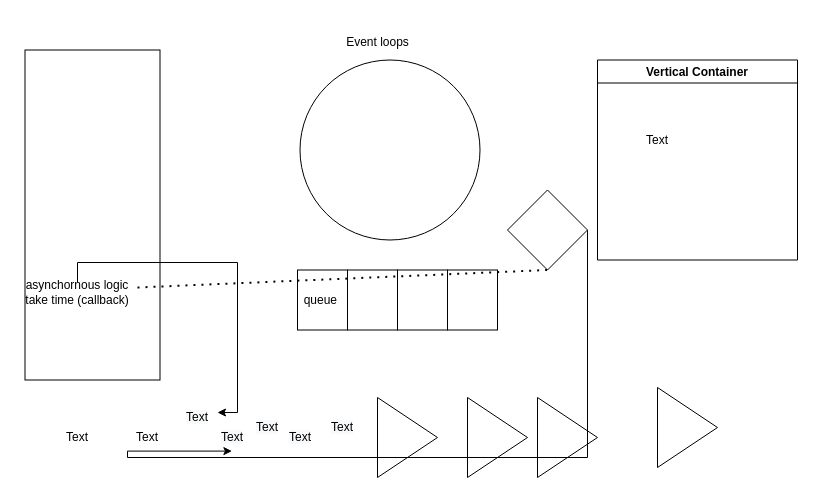
This 815x495 diagram has some shape labels left out. The centre of each missing label's shape, as x and y in pixels:
callback: the point at 547,229
if call stack is empty , and if my promise or async event resolve with a result: the point at 92,214
